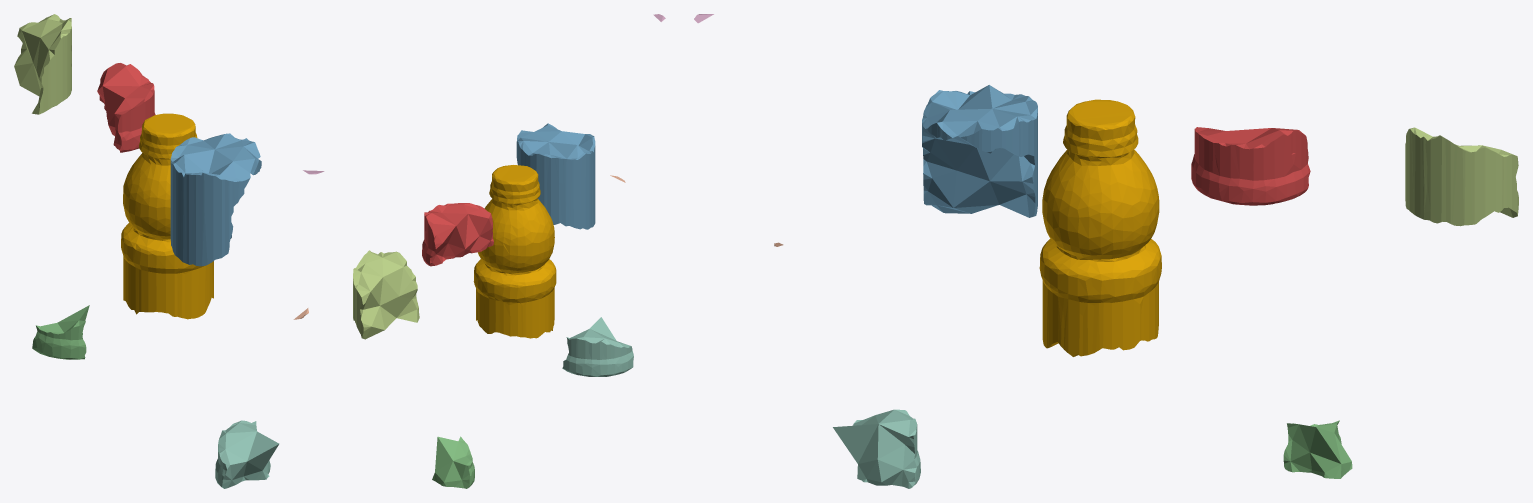
The model's file is fractured_20_8pcs_transformed.glb.
3 views of the same model, side by side, from view 1: azimuth 30°, elevation 25°; view 2: azimuth 150°, elevation 25°; view 3: azimuth 270°, elevation 25° (orthographic). The views are drawn at different scales.
Visible parts, largest first — view 1: piece_0.obj, piece_2.obj, piece_5.obj, piece_1.obj, piece_4.obj, piece_3.obj; view 2: piece_0.obj, piece_2.obj, piece_5.obj, piece_1.obj, piece_4.obj, piece_3.obj; view 3: piece_0.obj, piece_2.obj, piece_5.obj, piece_1.obj, piece_4.obj, piece_3.obj.
Boxes of the visible parts, <box> form: piece_0.obj: <box>121,113,213,319</box>; piece_2.obj: <box>170,133,261,266</box>; piece_5.obj: <box>14,14,71,114</box>; piece_1.obj: <box>97,63,155,152</box>; piece_4.obj: <box>215,420,279,488</box>; piece_3.obj: <box>32,305,89,359</box>; piece_0.obj: <box>473,165,556,338</box>; piece_2.obj: <box>516,123,595,229</box>; piece_5.obj: <box>353,250,419,339</box>; piece_1.obj: <box>422,203,493,266</box>; piece_4.obj: <box>562,317,633,376</box>; piece_3.obj: <box>432,436,474,488</box>; piece_0.obj: <box>1039,99,1161,356</box>; piece_2.obj: <box>922,85,1037,217</box>; piece_5.obj: <box>1405,127,1518,226</box>; piece_1.obj: <box>1191,127,1310,205</box>; piece_4.obj: <box>833,409,920,488</box>; piece_3.obj: <box>1283,420,1352,478</box>.
Bounding box in the file's own units: 0.3065 × 1.24 × 2.05.
